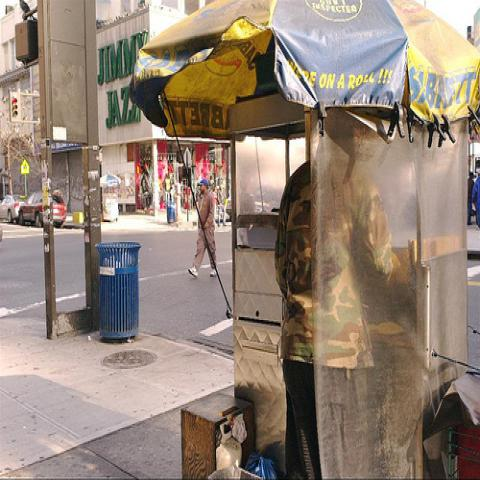car: (18, 189, 68, 228), (0, 193, 29, 222)
